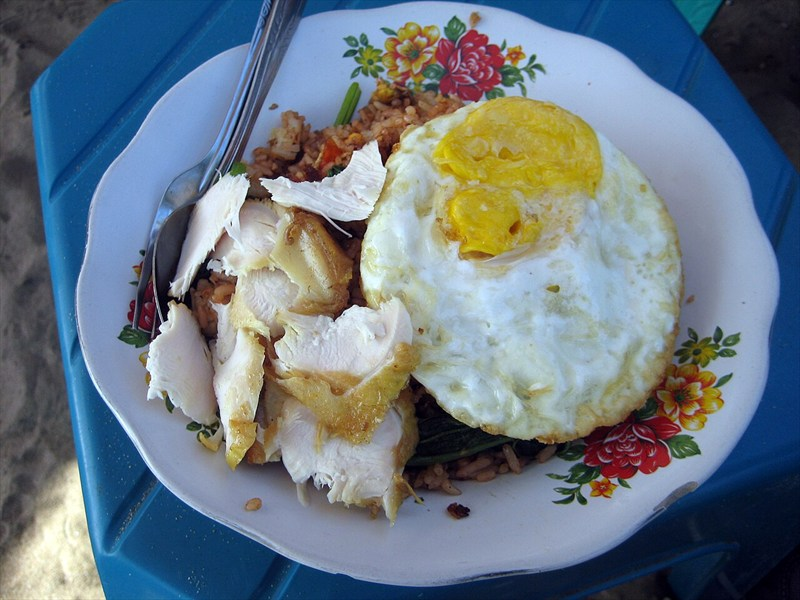Nasi Goreng: (52, 29, 638, 516)
